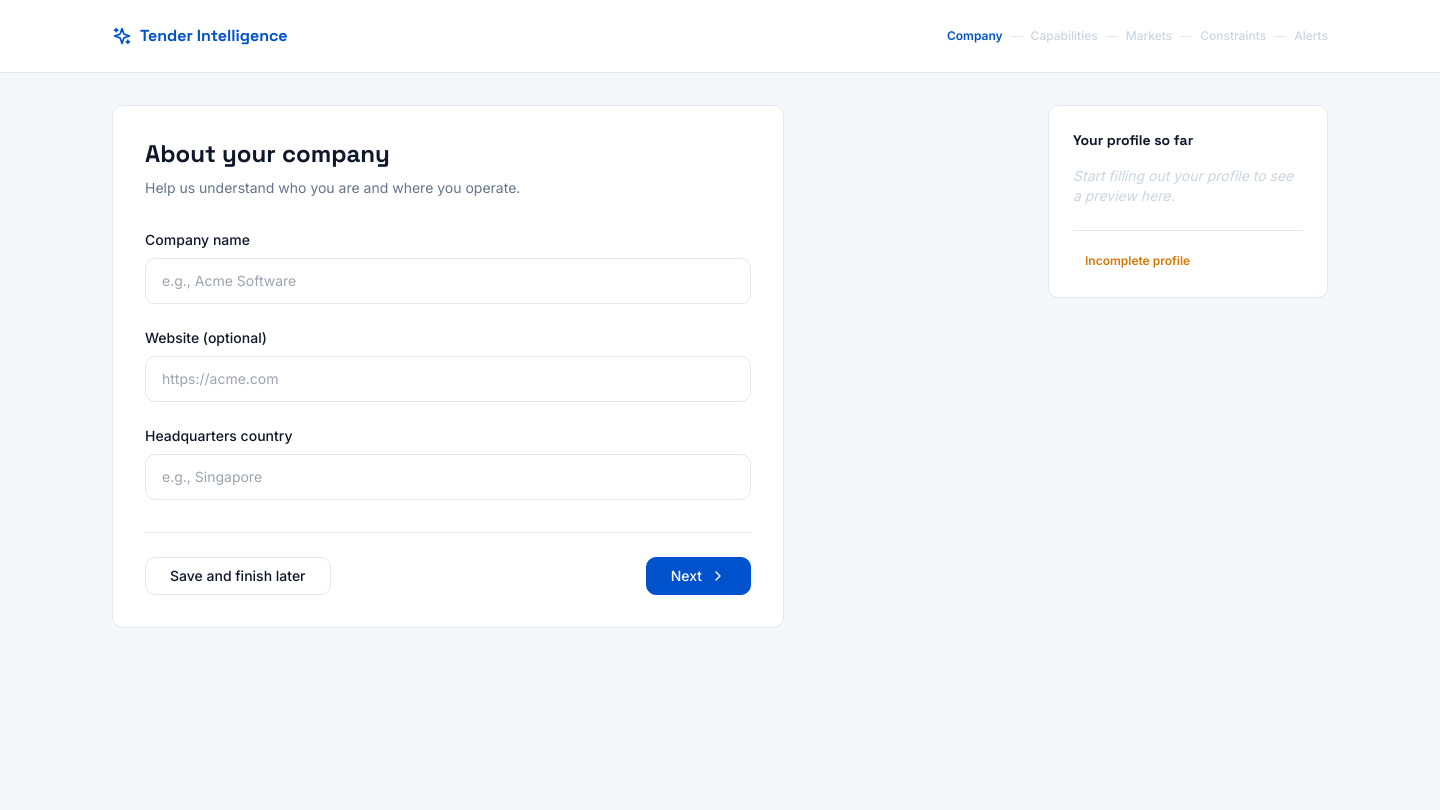
Test: OnboardingWizard › advances to the next step when clicking Next
Check: the heading "About your company" is shown, box [145,138,390,169]
// Click Next
Click the button "Next": x=698, y=576 [646,557,751,595]
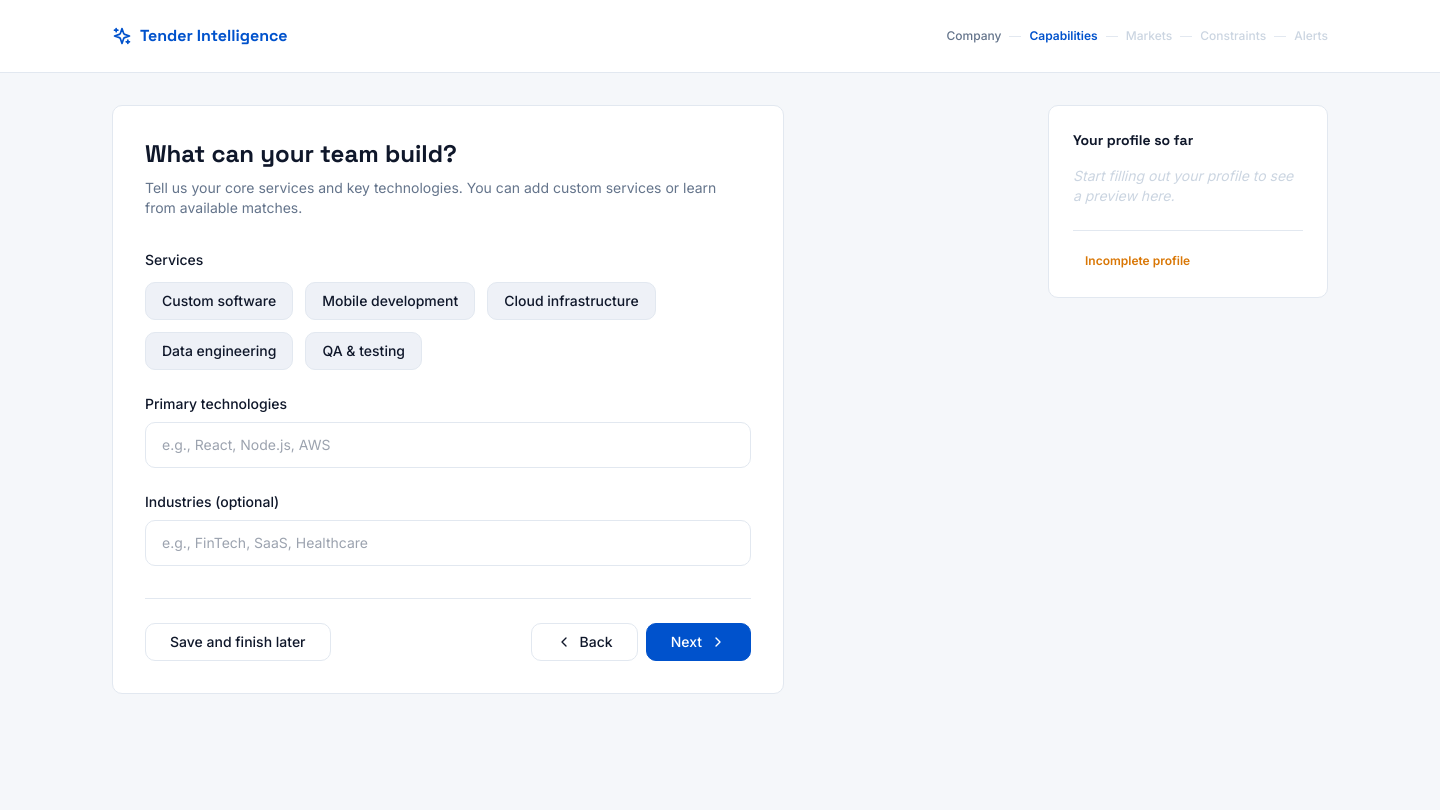
Check: the heading "What can your team build?" is shown, box [145,138,457,169]
